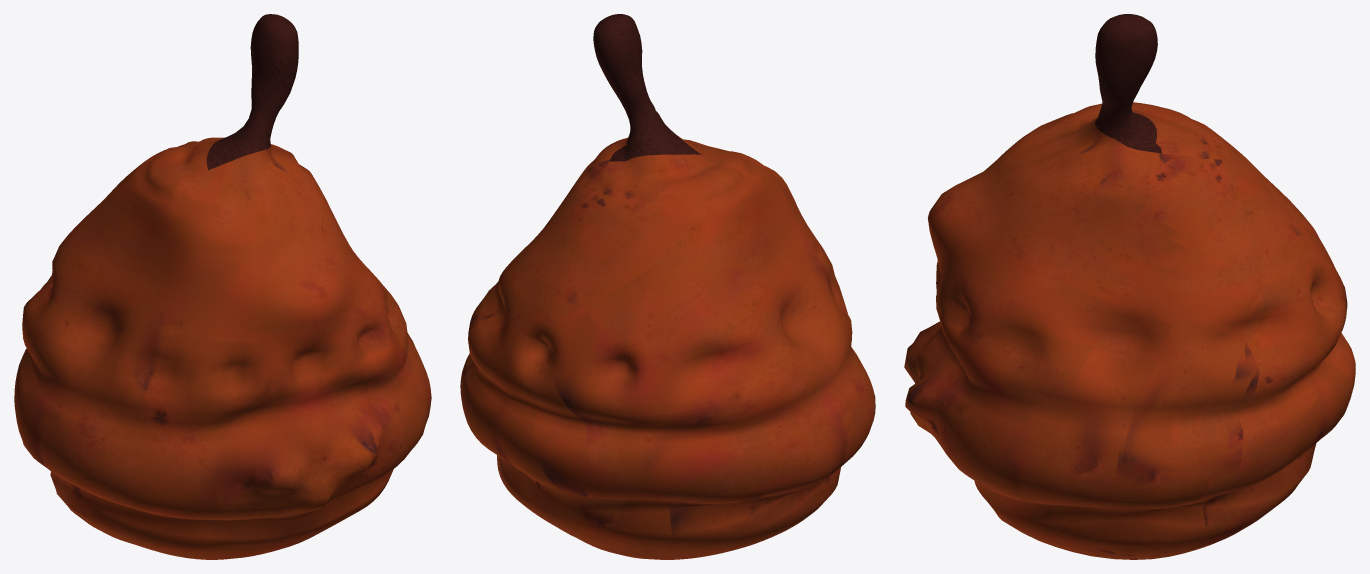
Rendered from Mutated_Pear.fbx.
The picture shows the model from 3 angles, left to right: view 1: azimuth 30°, elevation 25°; view 2: azimuth 150°, elevation 25°; view 3: azimuth 270°, elevation 25°; orthographic projection. The views are drawn at different scales.
Parts seen in each view (by area): view 1: Low_Poly_Mutated_Pear_SM.001; view 2: Low_Poly_Mutated_Pear_SM.001; view 3: Low_Poly_Mutated_Pear_SM.001.
Part boxes in pixels (bbox=[...]): Low_Poly_Mutated_Pear_SM.001: bbox=[14, 14, 431, 559]; Low_Poly_Mutated_Pear_SM.001: bbox=[460, 14, 875, 559]; Low_Poly_Mutated_Pear_SM.001: bbox=[904, 14, 1355, 559].
Size of the model in its own units: 29.62 by 39.62 by 29.62.
Materials: 1 (1 with a texture image).
